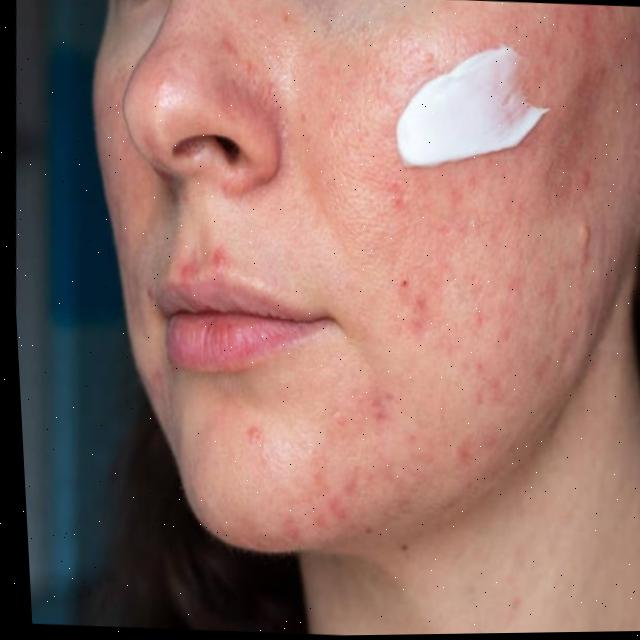Rosacea: (382, 175, 592, 434), (275, 455, 408, 543)
